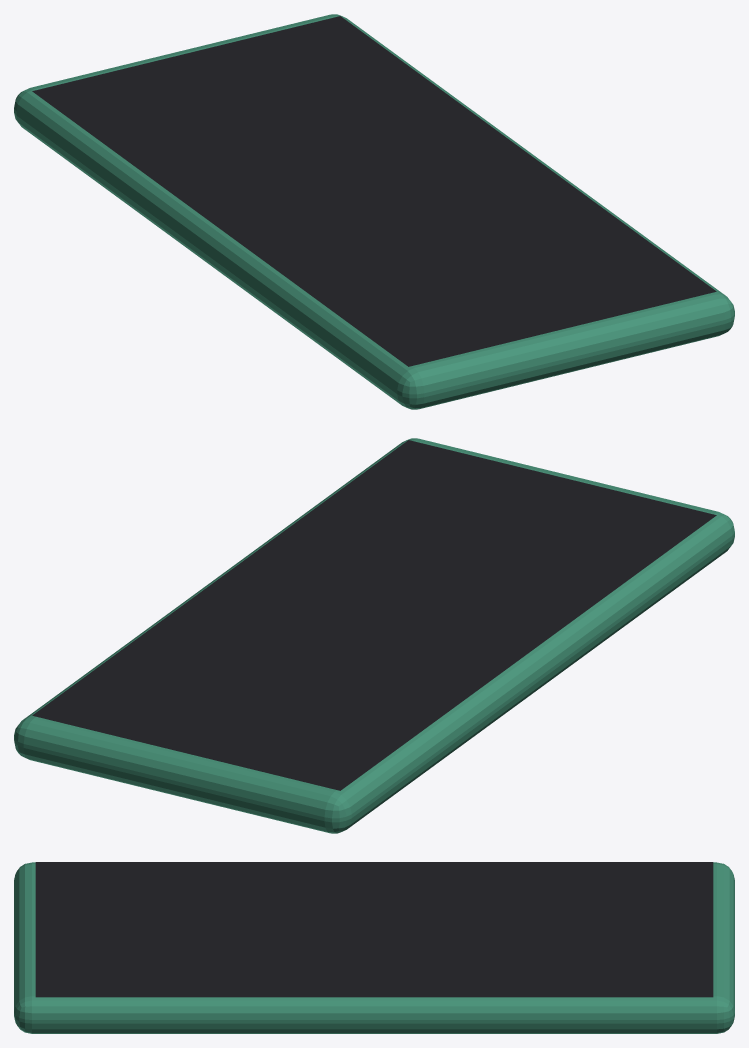
File: Phone_339.glb
3 renders of one model, top to bottom at view 1: azimuth 30°, elevation 25°; view 2: azimuth 150°, elevation 25°; view 3: azimuth 270°, elevation 25°, orthographic. The views are drawn at different scales.
Visible parts, largest first — view 1: Phone_Screen, Phone_Body; view 2: Phone_Screen, Phone_Body; view 3: Phone_Screen, Phone_Body.
Boxes of the visible parts, bbox=[...] form: Phone_Screen: bbox=[32, 16, 716, 366]; Phone_Body: bbox=[14, 14, 734, 409]; Phone_Screen: bbox=[32, 440, 716, 790]; Phone_Body: bbox=[14, 438, 734, 833]; Phone_Screen: bbox=[35, 862, 713, 997]; Phone_Body: bbox=[14, 862, 734, 1033].
Bounding box in the file's own units: 0.0718 × 0.0083 × 0.1486.
